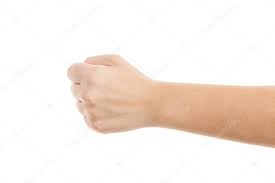fist: (69, 52, 152, 137)
